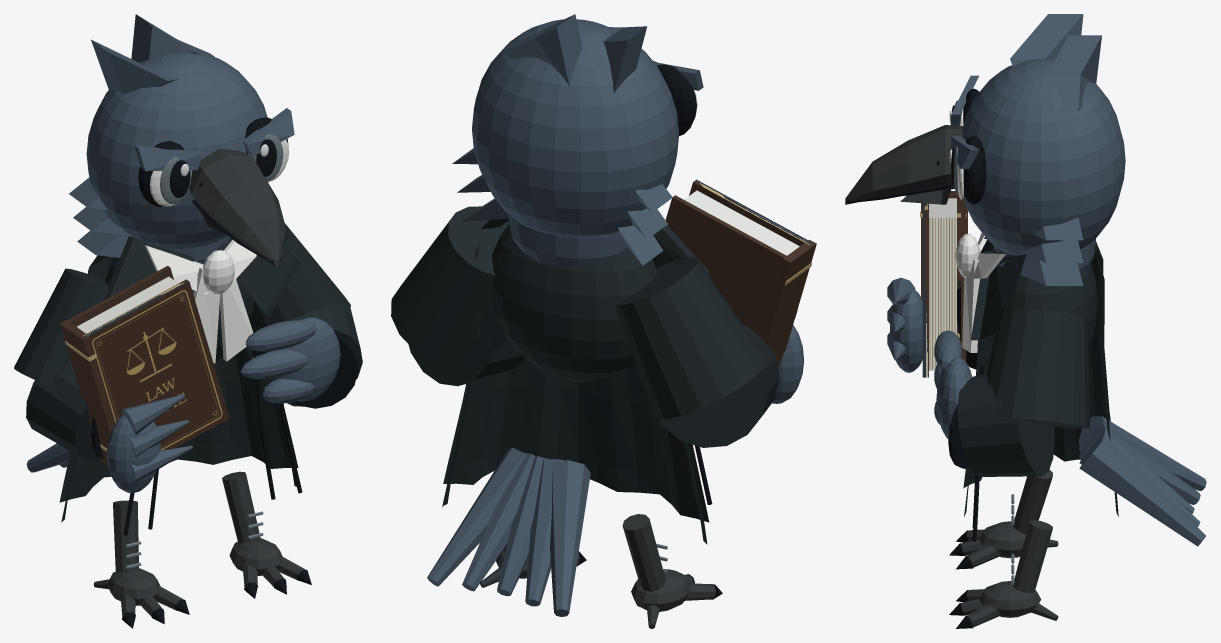
The picture shows the model from 3 angles, left to right: view 1: azimuth 30°, elevation 25°; view 2: azimuth 150°, elevation 25°; view 3: azimuth 270°, elevation 25°; orthographic projection. The views are drawn at different scales.
Visible parts, largest first — view 1: Corvo_Jurista; view 2: Corvo_Jurista; view 3: Corvo_Jurista.
Part boxes in pixels (x1,y1,x2,y2): Corvo_Jurista: (14,14,362,628); Corvo_Jurista: (391,14,816,628); Corvo_Jurista: (845,14,1206,628).
Bounding box in the file's own units: 1.92 × 3.06 × 1.84.
Materials: 1 (1 with a texture image).
